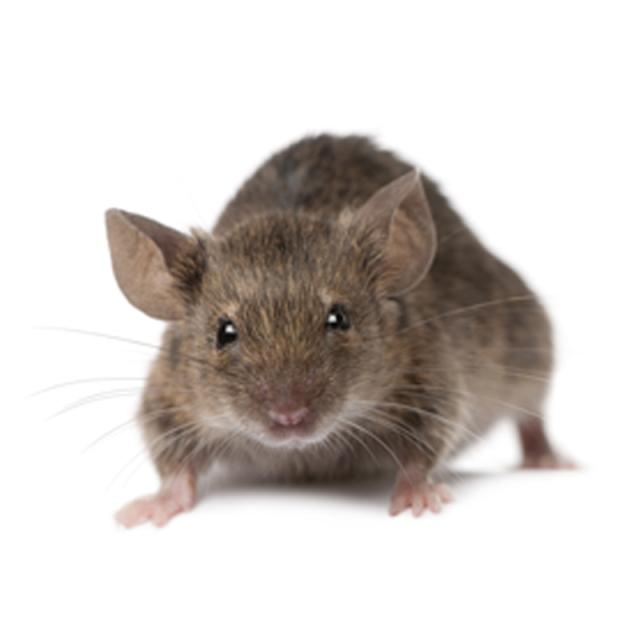rat: (72, 127, 586, 541)
